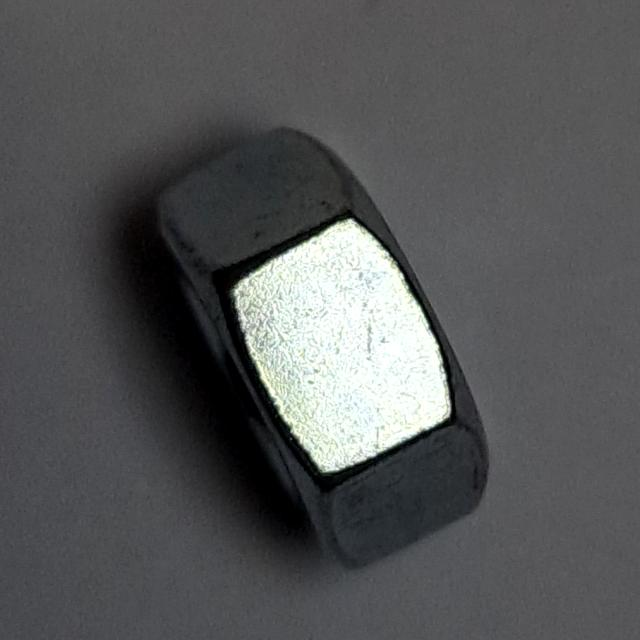Side_Excellent: (137, 115, 504, 582)
